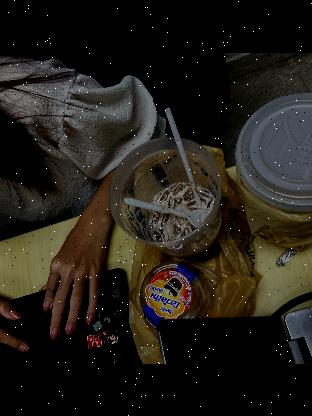Others: (124, 140, 258, 364), (106, 132, 224, 256), (230, 90, 312, 208), (234, 171, 312, 252), (136, 260, 210, 328), (162, 108, 204, 206), (122, 194, 214, 230), (272, 235, 300, 270)
